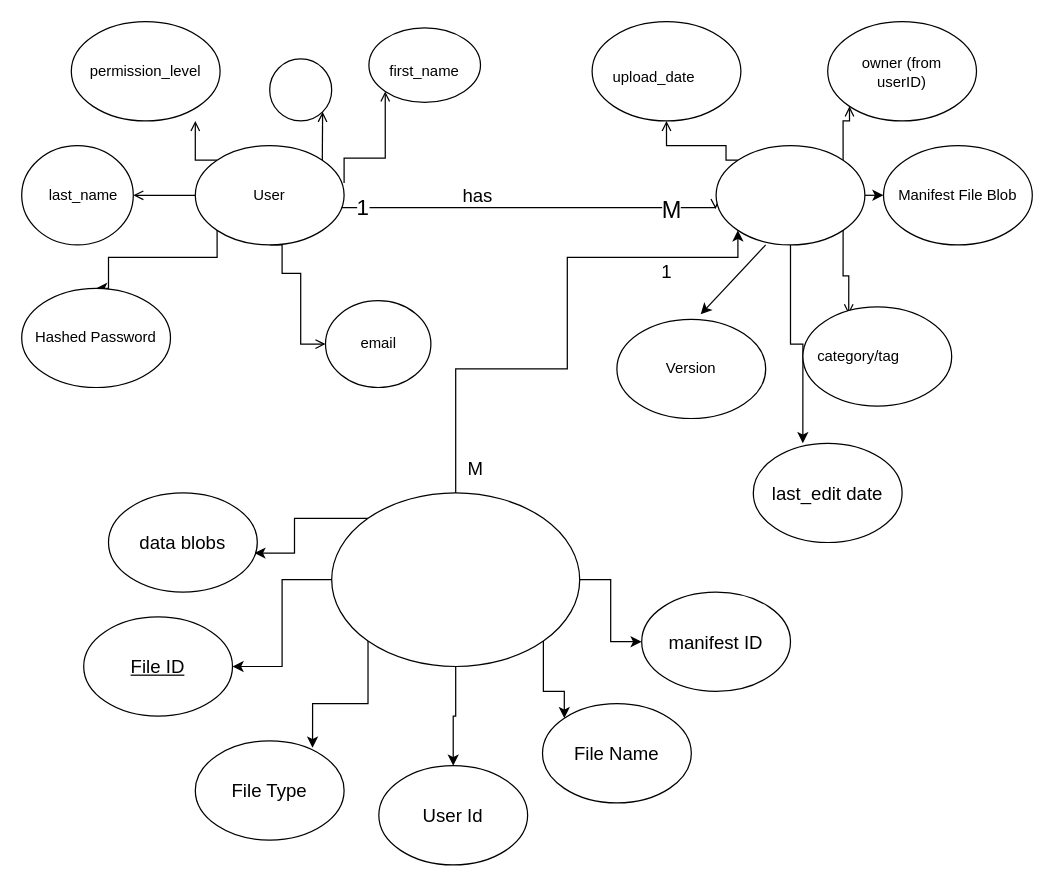
This 1054x887 diagram has some shape labels left out. The shapes that lost their labels are listed below. From the top down, each one's box as (x1, y1, x2, y2) in pixels, then its label:
(268, 58, 332, 121): ID
(715, 144, 865, 245): manifest
(330, 492, 580, 666): dataset_files
